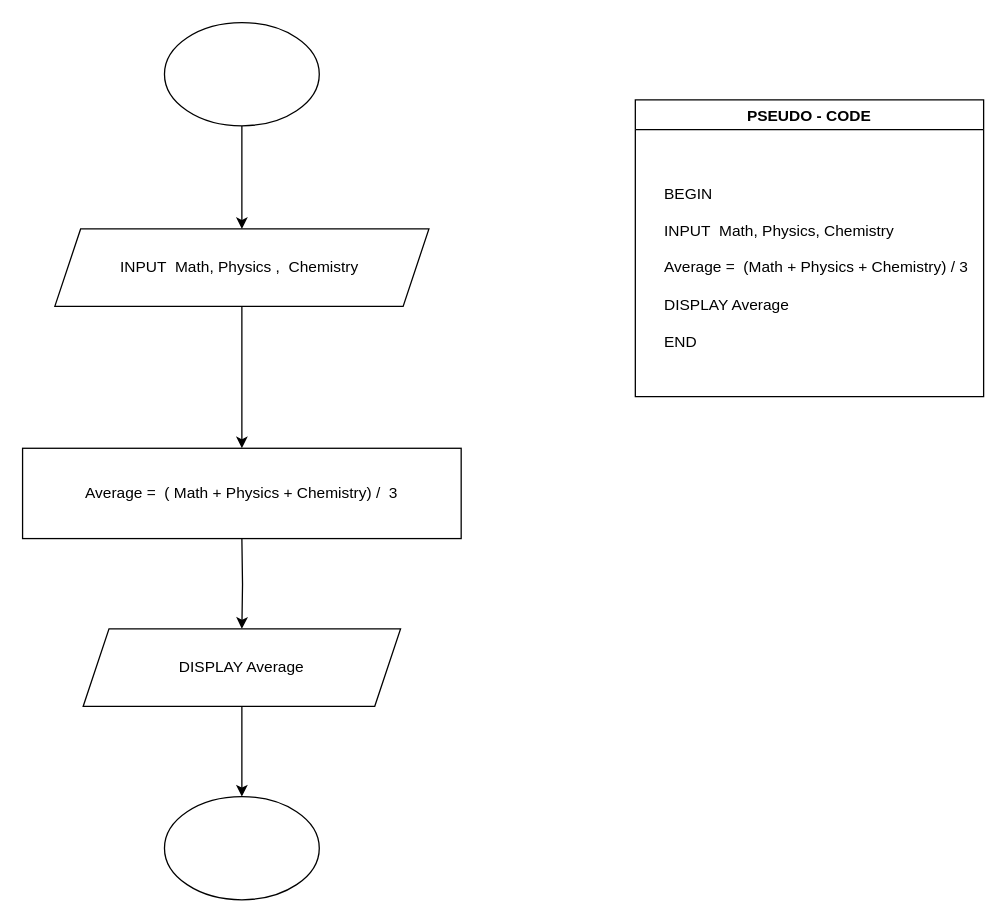
Some shapes in this 1006 by 922 pixel diagram are drawn without their labels. Each missing label, with the centre of its shape:
"BEGIN" belongs at [241,73].
"END" belongs at [241,847].
